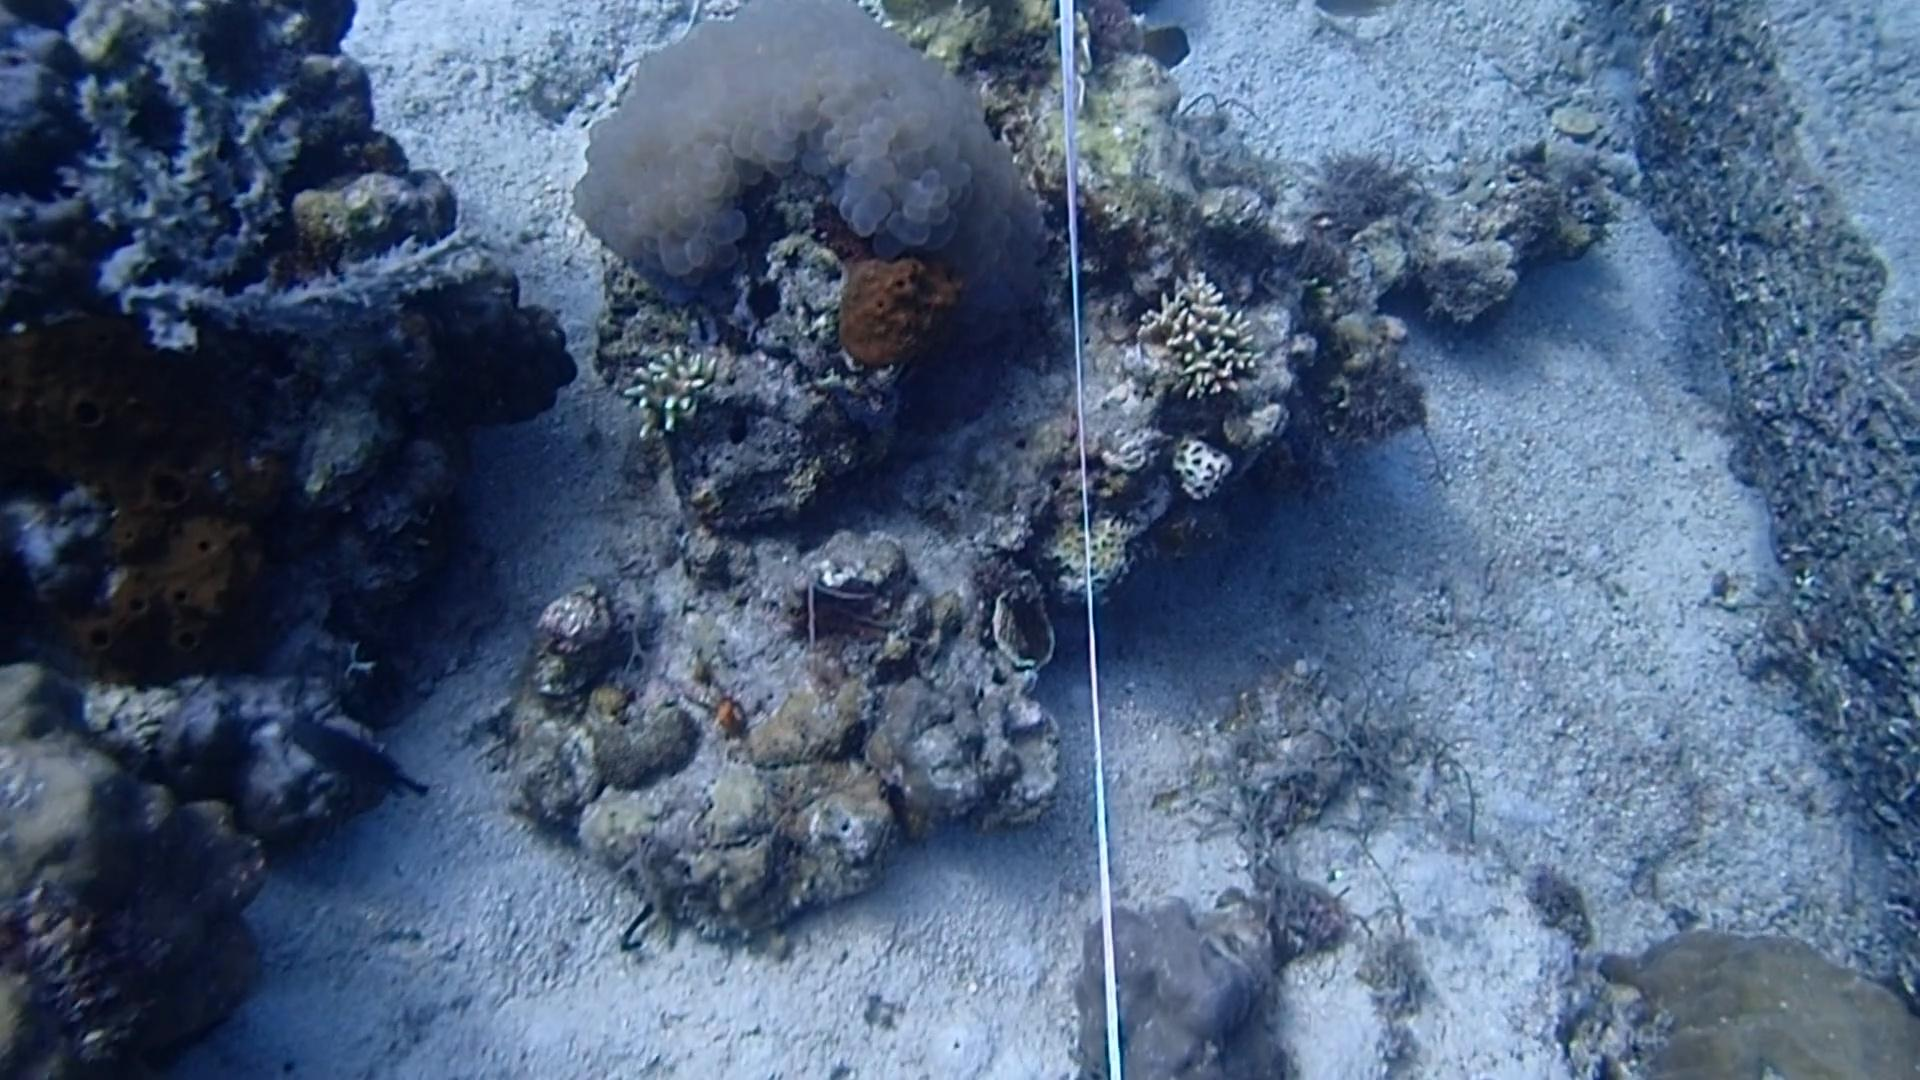Big Dark Blue Fish: (273, 692, 433, 814)
